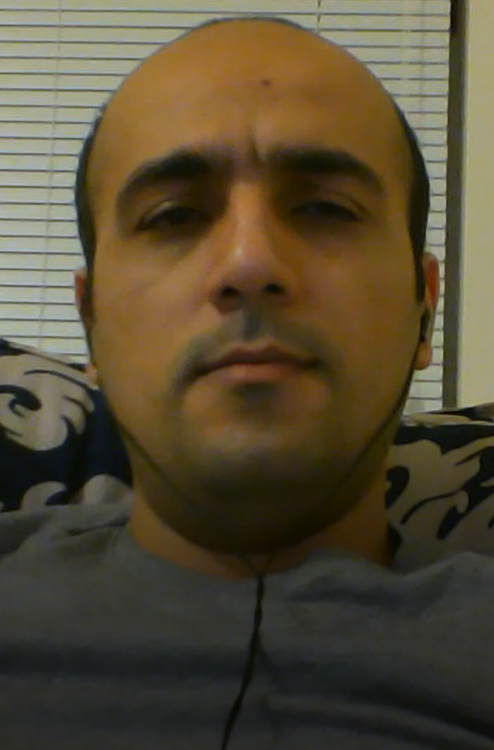Half Asleep: (113, 141, 393, 273)
